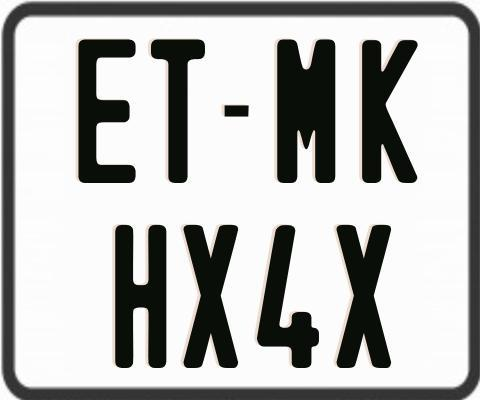4: (255, 225, 322, 370)
E: (77, 38, 141, 183)
H: (113, 223, 169, 368)
K: (360, 37, 416, 182)
M: (276, 37, 340, 184)
T: (148, 38, 203, 184)
X: (333, 223, 390, 371), (182, 223, 238, 369)
